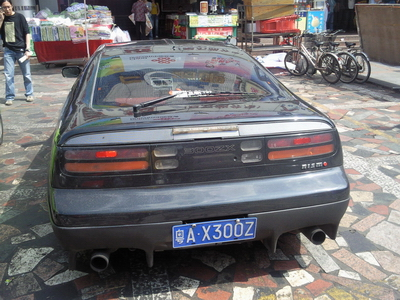plate_number: (173, 218, 257, 247)
